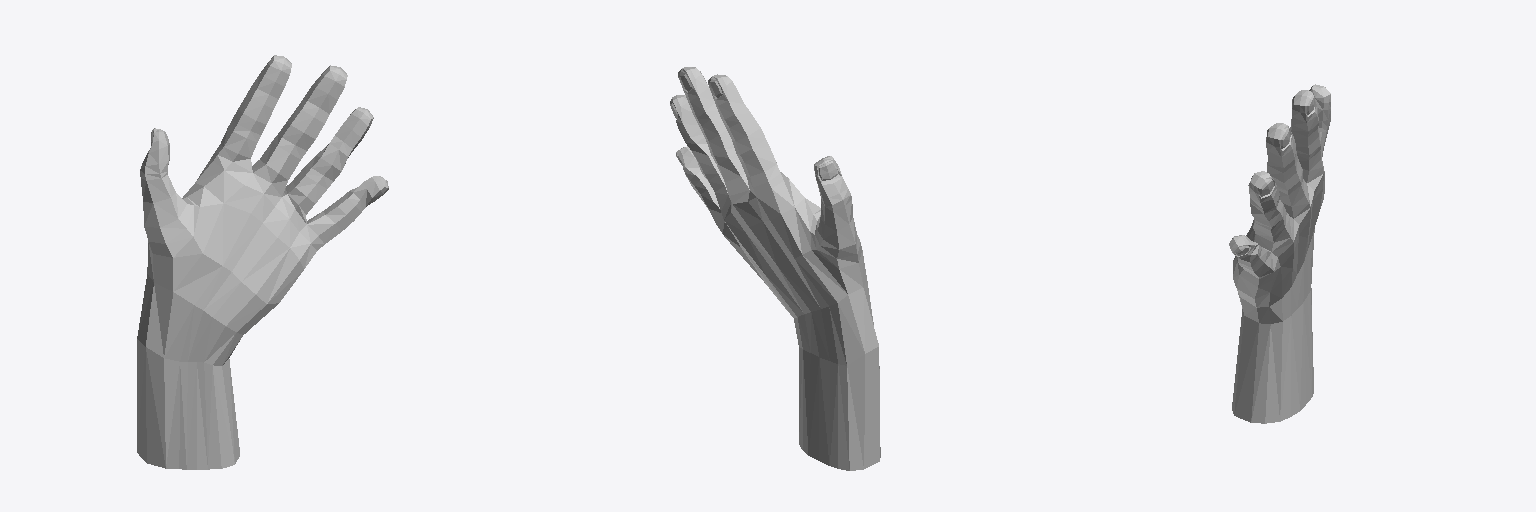
Rendered from handAnimated4_000246.obj.
The picture shows the model from 3 angles: view 1: azimuth 30°, elevation 25°; view 2: azimuth 150°, elevation 25°; view 3: azimuth 270°, elevation 25°; orthographic projection.
Visible parts, largest first — view 1: Cube.000_Cube.017_Detached_Detached; view 2: Cube.000_Cube.017_Detached_Detached; view 3: Cube.000_Cube.017_Detached_Detached.
Part boxes in pixels (x1,y1,x2,y2): Cube.000_Cube.017_Detached_Detached: (137, 55, 388, 469); Cube.000_Cube.017_Detached_Detached: (670, 67, 880, 470); Cube.000_Cube.017_Detached_Detached: (1229, 84, 1330, 423).
Size of the model in its own units: 0.7735 by 1.21 by 0.3096.